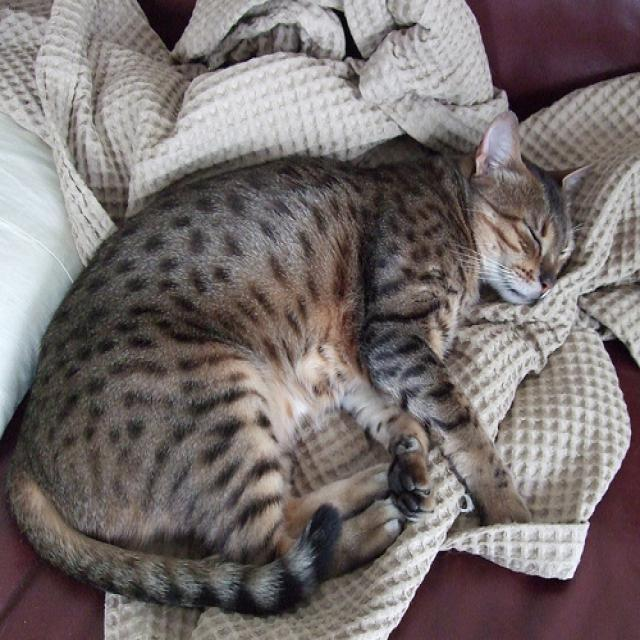Egyptian_Mau: (453, 110, 598, 312)
